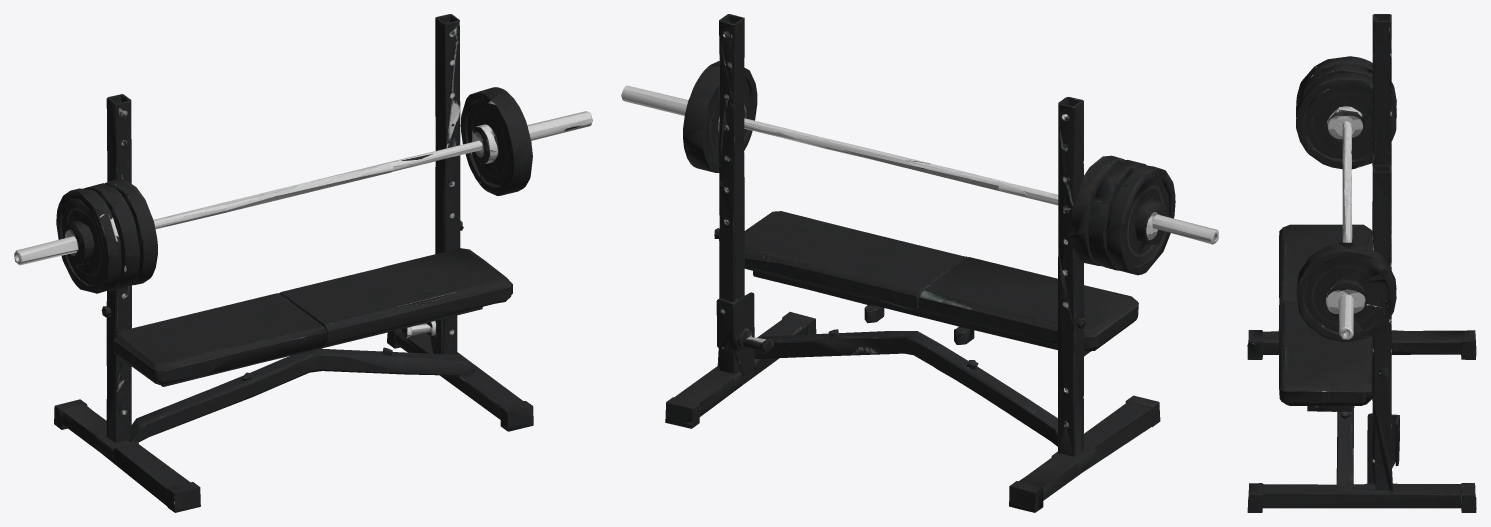
Rendered from weight-bench-v1.glb.
3 views of the same model, side by side, from view 1: azimuth 30°, elevation 25°; view 2: azimuth 150°, elevation 25°; view 3: azimuth 270°, elevation 25° (orthographic). The views are drawn at different scales.
Bounding box in the file's own units: 2.1 × 1.25 × 0.7709.
1 material, 1 textured.
